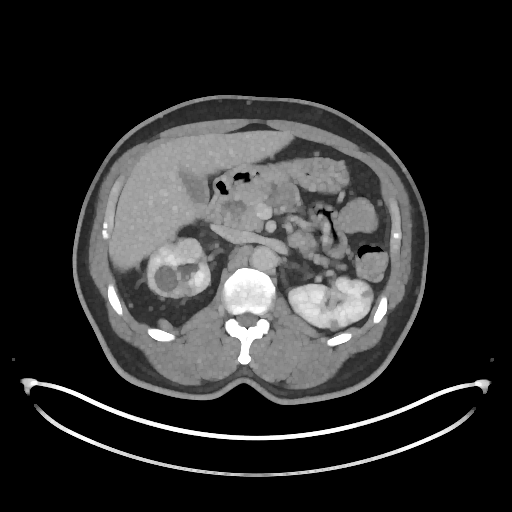Lesion: (151, 265, 184, 296)
